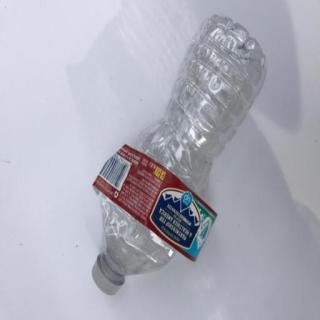Plastic-bottle: (91, 13, 269, 297)
